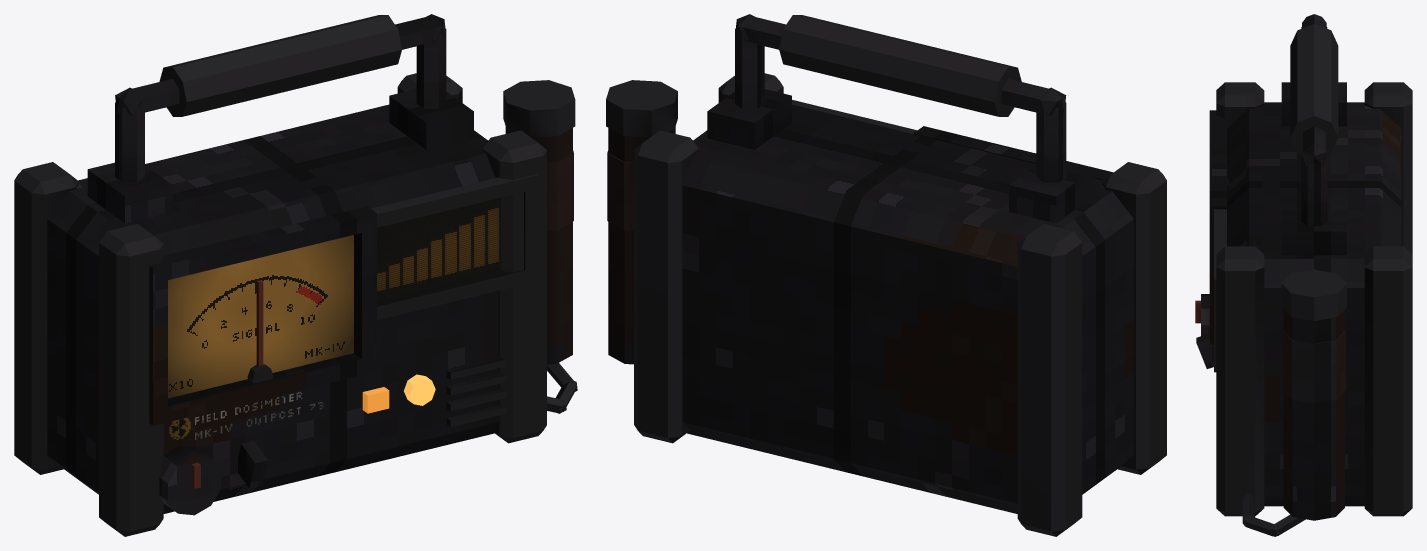
File: dosimeter.glb
3 renders of one model, left to right at view 1: azimuth 30°, elevation 25°; view 2: azimuth 150°, elevation 25°; view 3: azimuth 270°, elevation 25°, orthographic. The views are drawn at different scales.
Visible parts, largest first — view 1: body, panels, screens, decals, needle; view 2: body; view 3: body.
Part boxes in pixels (x1,y1,x2,y2): body: [14, 14, 577, 536]; panels: [168, 235, 353, 398]; screens: [377, 197, 501, 301]; decals: [169, 392, 323, 439]; needle: [256, 280, 263, 366]; body: [606, 14, 1166, 536]; body: [1195, 14, 1412, 536].
Size of the model in its own units: 0.235 by 0.181 by 0.0995.
Materials: 9 (5 with a texture image).
